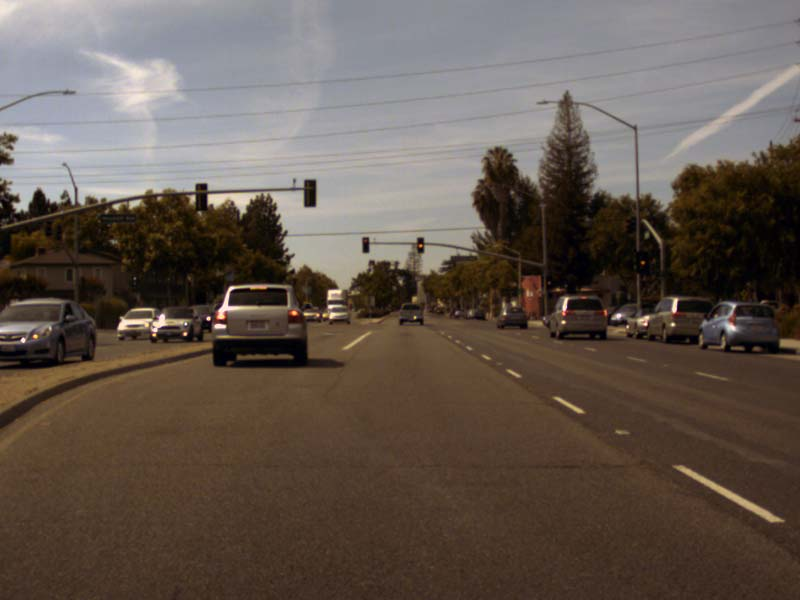Red: (362, 237, 368, 252)
Yellow: (636, 251, 648, 273), (545, 275, 552, 288), (417, 237, 423, 252)
